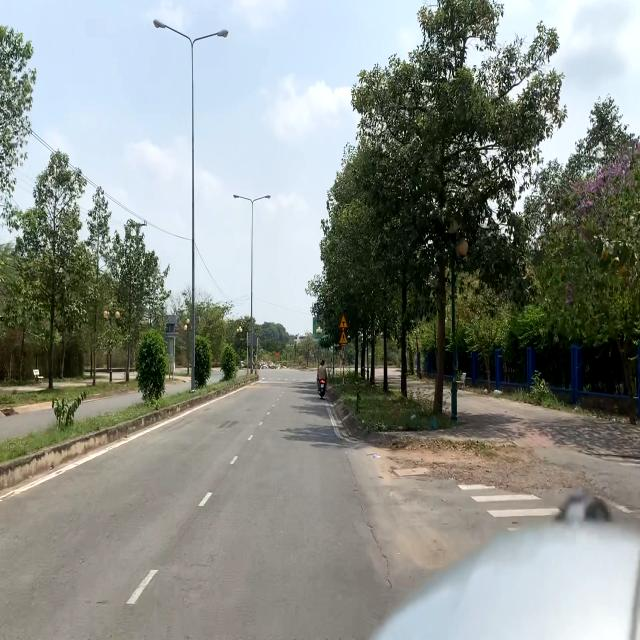W.205d: (339, 314, 348, 330)
W.224: (339, 330, 348, 345)
